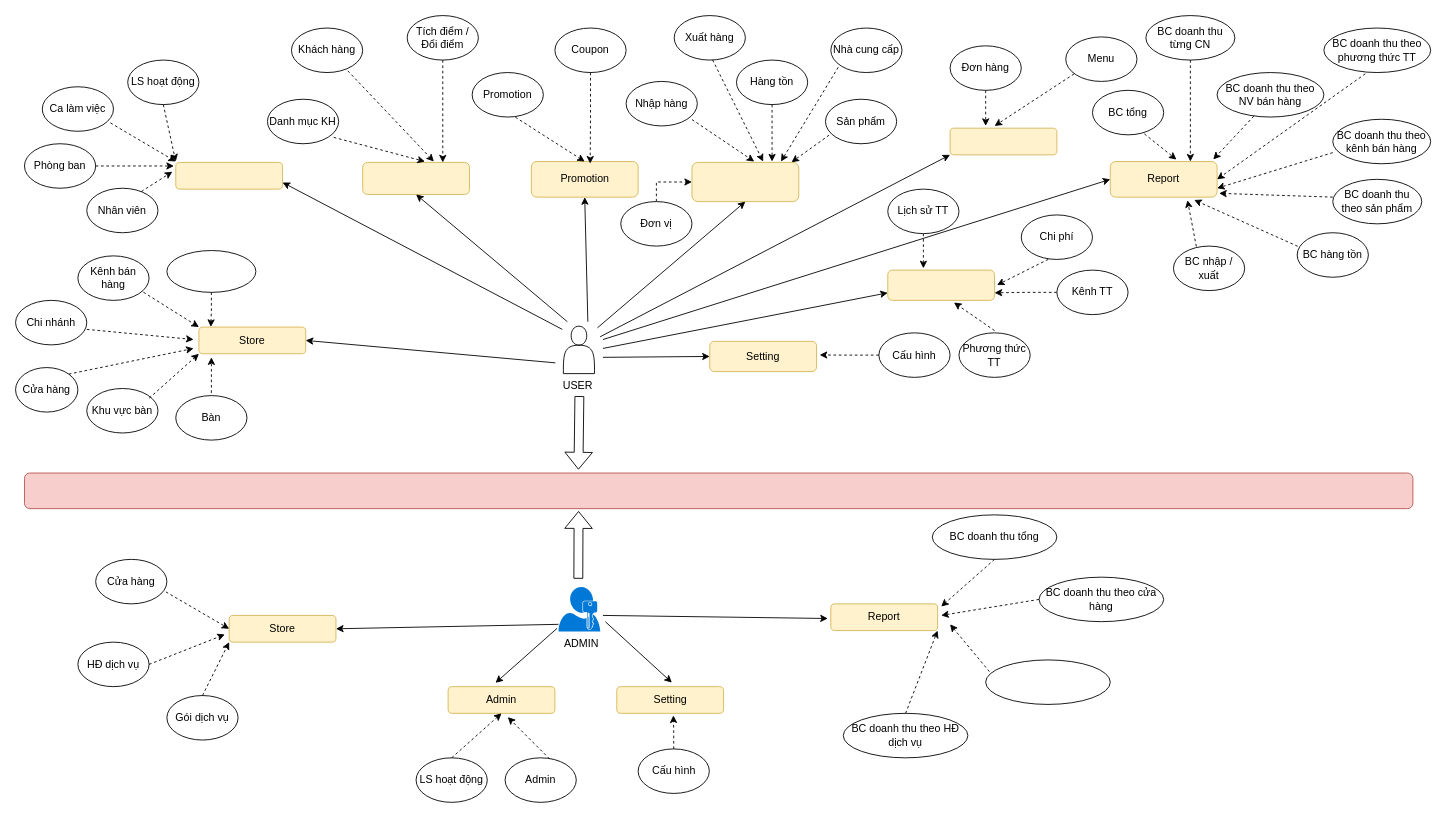
Image size: 1446x818. Some labels were removed from this diagram. Here are the shapes that lost their labels. From the top down, the centre of each, then its label:
At (1003,141): "Sale".
At (229,175): "Staff".
At (415,178): "Customer".
At (745,182): "Warehouse".
At (211,271): "Nguồn bán hàng".
At (941,284): "Finance".
At (718,490): "TTPOS - CMS".
At (1047,681): "BC doanh thu theo tỉnh thành".
